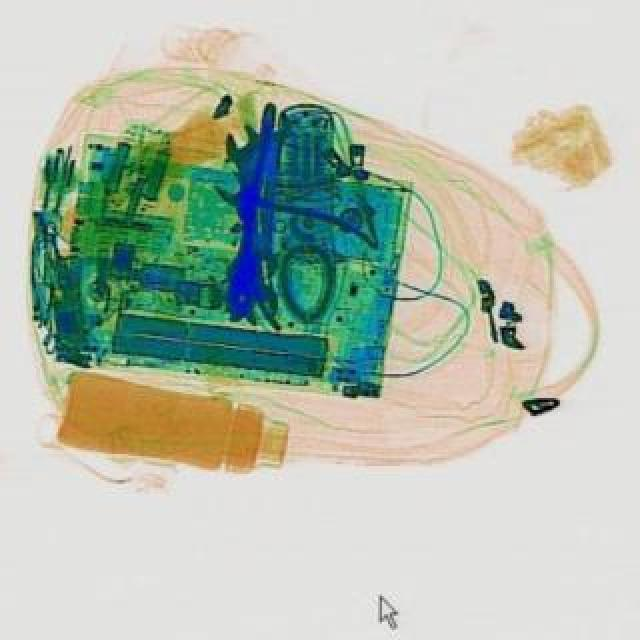scissors: (216, 122, 282, 252)
wrench: (172, 132, 384, 332)
